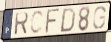8: (77, 5, 91, 33)
C: (29, 9, 45, 35)
D: (59, 7, 77, 34)
F: (44, 7, 61, 35)
G: (92, 5, 107, 30)
R: (13, 11, 29, 36)
